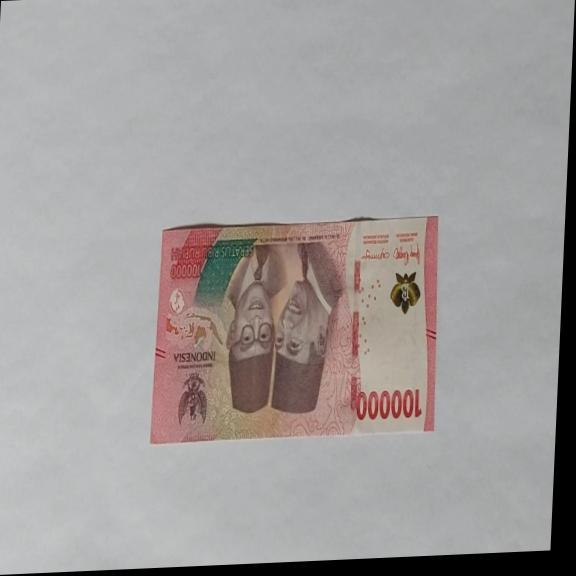Kertas: (148, 212, 443, 447), (353, 386, 423, 424)
